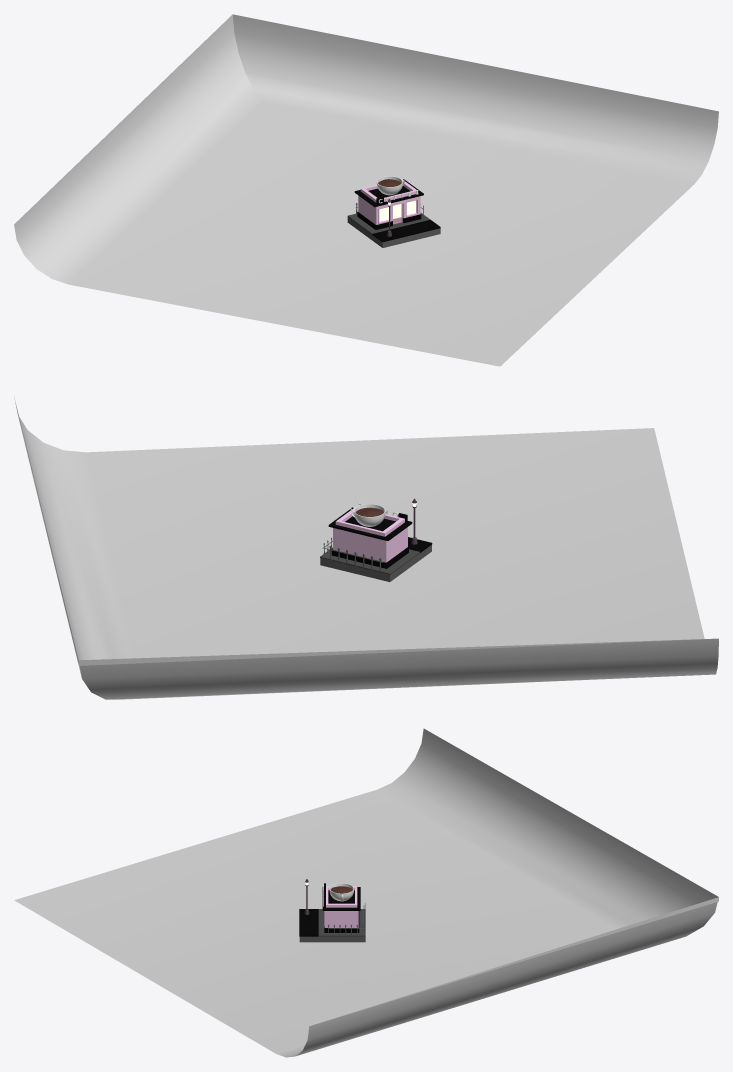
The model's file is uploads_files_5593643_little+cafe.glb.
3 renders of one model, top to bottom at view 1: azimuth 30°, elevation 25°; view 2: azimuth 150°, elevation 25°; view 3: azimuth 270°, elevation 25°, orthographic. The views are drawn at different scales.
Visible parts, largest first — view 1: Plane.003, Plane.001, Plane; view 2: Plane.003, Plane.001, Plane; view 3: Plane.003, Plane.001, Plane.
Part boxes in pixels (x1,y1,x2,y2): Plane.003: [14, 14, 718, 366]; Plane.001: [354, 179, 423, 229]; Plane: [347, 213, 440, 247]; Plane.003: [14, 397, 718, 699]; Plane.001: [328, 507, 412, 568]; Plane: [320, 537, 432, 581]; Plane.003: [14, 728, 718, 1057]; Plane.001: [322, 886, 360, 932]; Plane: [299, 909, 365, 942].
Bounding box in the file's own units: 112 × 9 × 112.
